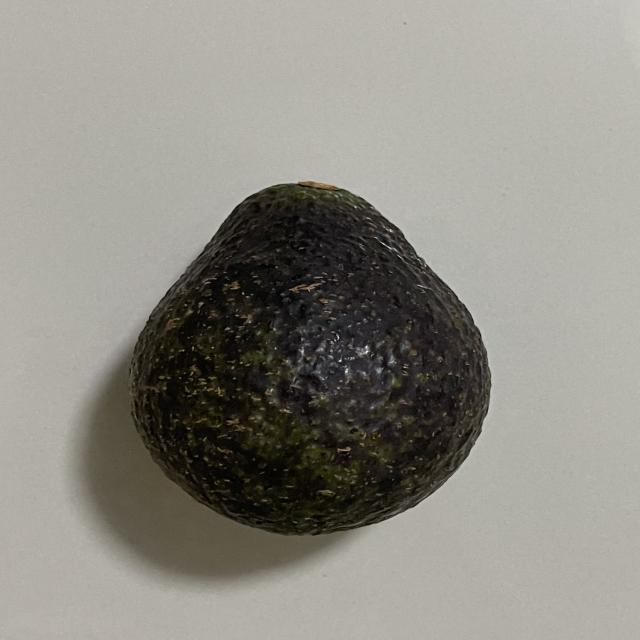avocado: (119, 170, 502, 543)
